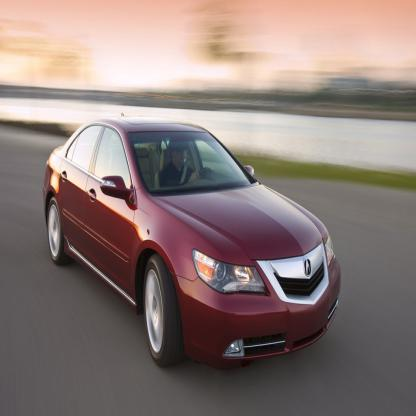Vehicle: (42, 112, 342, 370)
